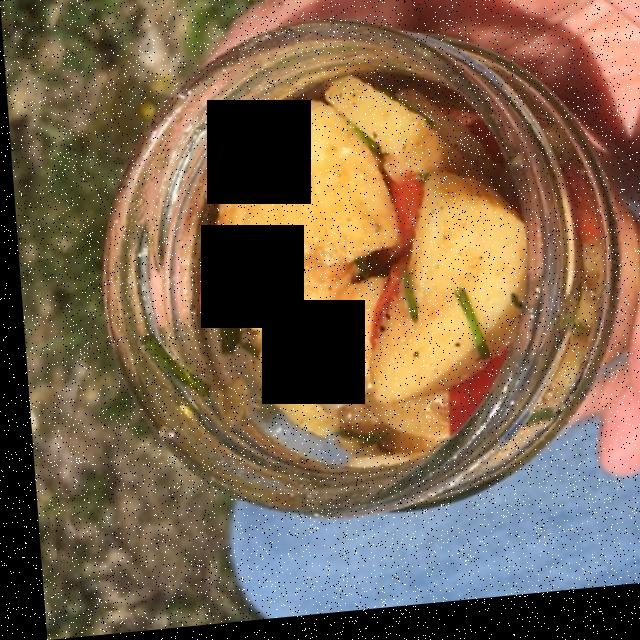potatoes-steamed: (209, 85, 524, 462)
